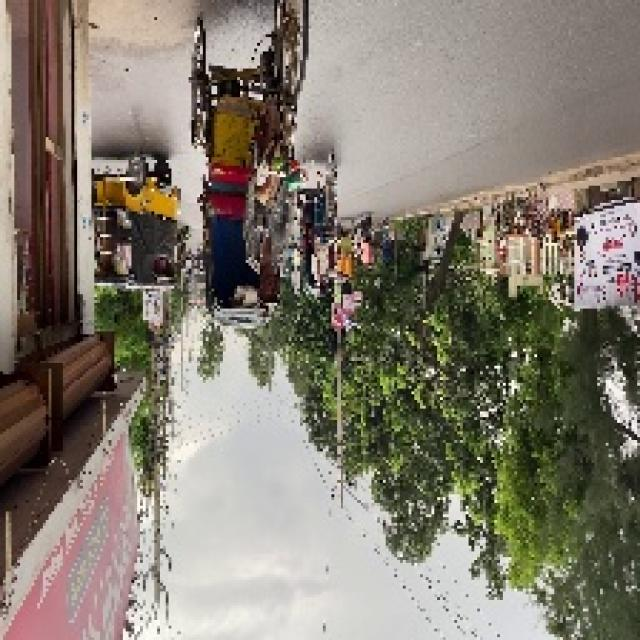rickshaw: (203, 11, 317, 328), (91, 156, 183, 314), (300, 159, 345, 311)
